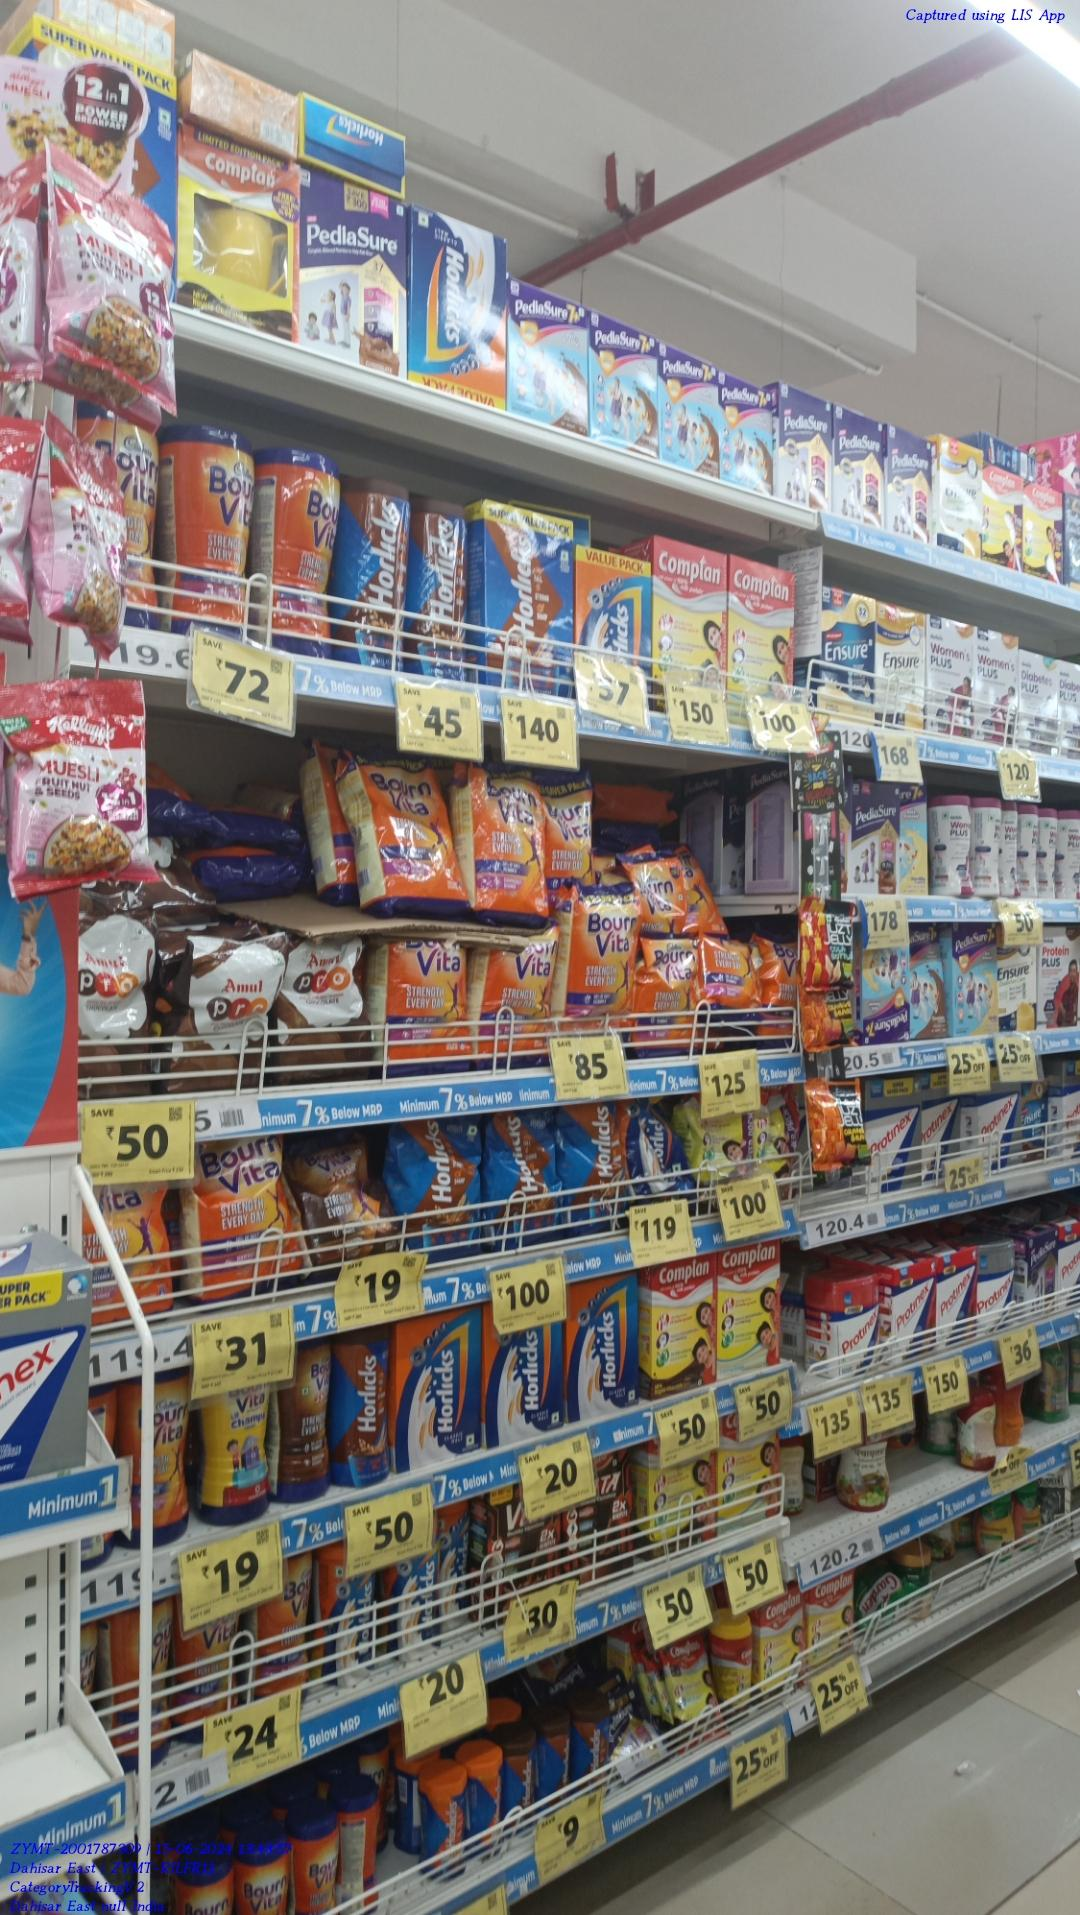BOURN_VITA_1_KG_JAR: (170, 430, 254, 637), (262, 447, 339, 655)
BOURN_VITA_1_KG_POUCH: (362, 756, 459, 906), (466, 764, 549, 923), (380, 940, 472, 1075), (474, 929, 555, 1064), (562, 883, 637, 1026)
BOURN_VITA_750_G_POUCH: (191, 1139, 289, 1289), (639, 933, 699, 1050)
BOURN_VITA_CHAMPS_500_G_JAR: (200, 1384, 276, 1524)
BOURN_VITA_FIVE_STAR_MAGIC_500_G_JAR: (279, 1340, 330, 1507)
BOURN_VITA_FIVE_STAR_MAGIC_750_G_POUCH: (295, 1130, 391, 1256)
COMPLAN_CHOCOLATE_1_KG_PACK: (484, 520, 577, 691), (652, 545, 726, 718)
COMPLAN_CHOCOLATE_500_GMS_PACK: (652, 1260, 718, 1394)
COMPLAN_CREAMY_CLASSIC_500_G_PACK: (718, 1249, 785, 1380)
ENSURE_VANILLA_400_G_PACK: (821, 591, 873, 710)
HORLICK_CHOCOLATE_1_KG_JAR: (343, 479, 405, 667), (408, 500, 472, 680)
HORLICK_CHOCOLATE_500_G_JAR: (333, 1331, 388, 1488)
HORLICK_CHOCOLATE_750_G_POUCH: (396, 1118, 483, 1259), (484, 1107, 560, 1243), (562, 1105, 627, 1236)
HORLICK_CLASSIC_MALT_500_G_PACK: (395, 1311, 481, 1467), (483, 1314, 570, 1443), (574, 1276, 642, 1415)
PEDIASURE_7_PLUS_CHOCOLATE_400_G_PACK: (508, 297, 588, 427), (591, 324, 662, 452), (663, 359, 718, 472), (720, 385, 775, 492)
PEDIASURE_CHOCOLATE_500_G_PACK: (303, 184, 405, 368)
